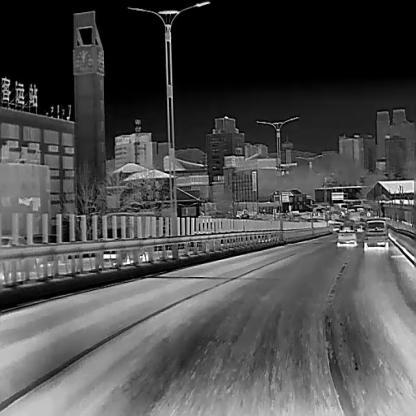car: (364, 217, 387, 247), (336, 223, 356, 246)
